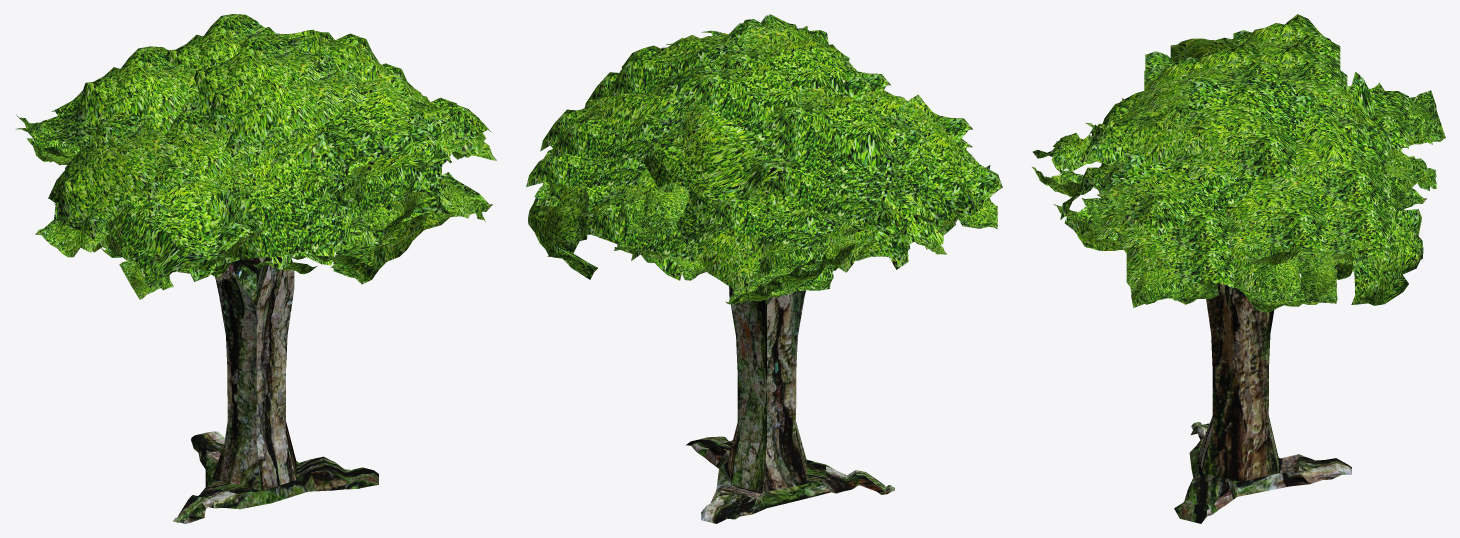
Rendered from Tree corrected .fbx.
3 views of the same model, side by side, from view 1: azimuth 30°, elevation 25°; view 2: azimuth 150°, elevation 25°; view 3: azimuth 270°, elevation 25° (orthographic). The views are drawn at different scales.
Visible parts, largest first — view 1: curve1, pPlane19, pPlane34, pPlane35, pPlane26, pPlane39, pPlane28, pPlane29, pPlane21, pPlane27, pPlane85, pPlane6 (+18 smaller); view 2: curve1, pPlane32, pPlane26, pPlane19, pPlane4, pPlane27, pPlane23, pPlane8, pPlane28, pPlane3, pPlane20, pPlane41 (+19 smaller); view 3: curve1, pPlane8, pPlane4, pPlane1, pPlane7, pPlane37, pPlane39, pPlane41, pPlane16, pPlane14, pPlane28, pPlane26 (+24 smaller).
Boxes of the visible parts, x1,y1,x2,y2 form: curve1: [173, 257, 378, 523]; pPlane19: [48, 112, 177, 239]; pPlane34: [212, 130, 346, 231]; pPlane35: [109, 185, 251, 288]; pPlane26: [51, 46, 200, 145]; pPlane39: [318, 70, 436, 175]; pPlane28: [180, 34, 324, 133]; pPlane29: [208, 77, 342, 157]; pPlane21: [135, 110, 259, 201]; pPlane27: [167, 14, 283, 111]; pPlane85: [344, 151, 451, 204]; pPlane6: [317, 118, 448, 213]; curve1: [686, 286, 894, 523]; pPlane32: [642, 99, 785, 244]; pPlane26: [761, 86, 927, 188]; pPlane19: [881, 94, 1002, 227]; pPlane4: [550, 75, 693, 158]; pPlane27: [678, 54, 798, 155]; pPlane23: [700, 190, 848, 250]; pPlane8: [608, 23, 758, 96]; pPlane28: [713, 30, 872, 100]; pPlane3: [661, 191, 784, 292]; pPlane20: [758, 151, 920, 222]; pPlane41: [528, 182, 597, 279]; curve1: [1174, 283, 1351, 523]; pPlane8: [1189, 76, 1295, 180]; pPlane4: [1271, 87, 1392, 215]; pPlane1: [1218, 176, 1325, 252]; pPlane7: [1122, 149, 1231, 255]; pPlane37: [1097, 172, 1253, 240]; pPlane39: [1081, 101, 1203, 165]; pPlane41: [1350, 209, 1423, 305]; pPlane16: [1126, 244, 1233, 288]; pPlane14: [1323, 171, 1389, 249]; pPlane28: [1179, 41, 1286, 86]; pPlane26: [1233, 14, 1340, 61].
Bounding box in the file's own units: 23.96 × 23.82 × 21.37.
2 materials, 2 textured.
